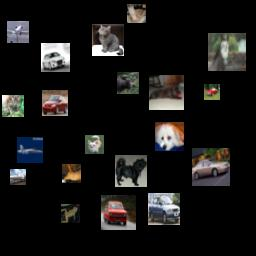airplane: (17, 137, 43, 163), (7, 21, 29, 43), (10, 169, 26, 185)
automobile: (192, 148, 230, 186), (101, 195, 136, 230), (148, 193, 180, 225), (41, 43, 70, 72), (42, 90, 68, 116), (204, 84, 220, 100)
cat: (92, 24, 124, 56), (2, 95, 24, 117), (127, 4, 146, 23)
deer: (117, 72, 139, 94), (62, 164, 81, 183)
dog: (149, 75, 184, 110), (115, 155, 147, 187), (155, 122, 184, 151), (85, 135, 104, 154)
frog: (61, 204, 80, 223)
